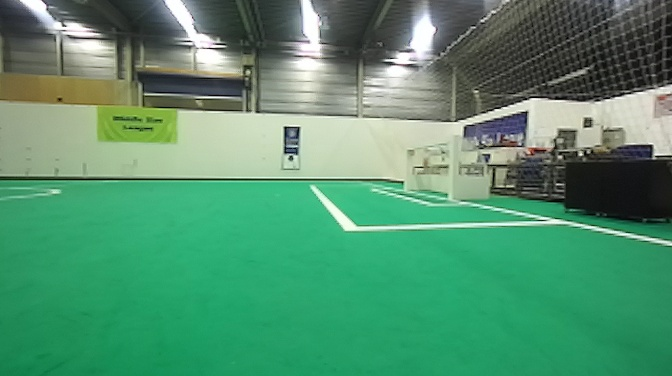goalpost: (446, 135, 463, 204), (401, 143, 420, 199)
